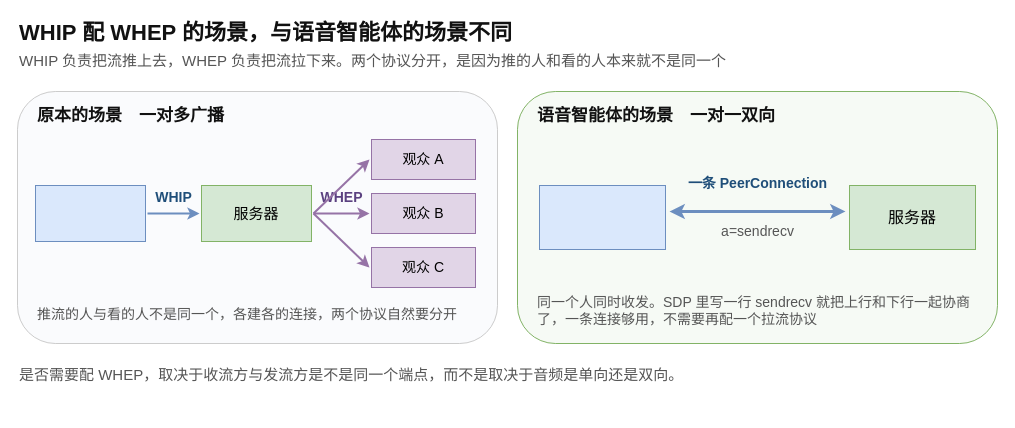
Image size: 1015x428. Some labels were removed from this diagram. The shapes that lost their labels are listed below. From the top down, each one's centre as x and y in pixels, then its label:
(90,213): 主播
(602,217): 用户
